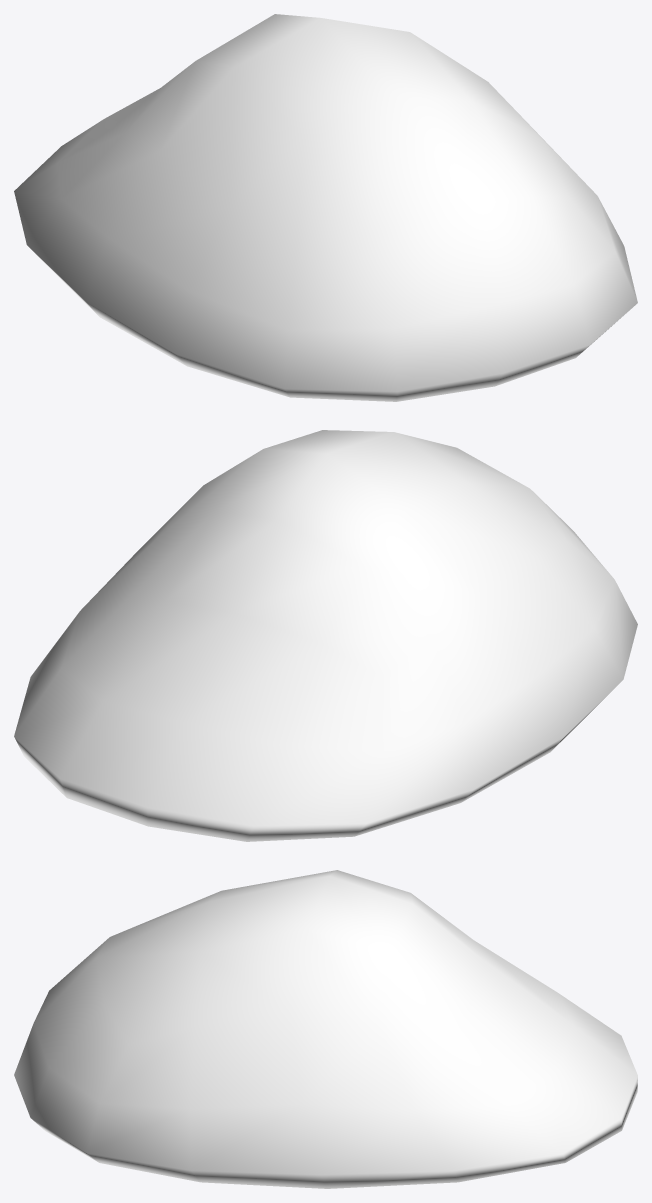
File: MM_SnowPile.fbx
3 renders of one model, top to bottom at view 1: azimuth 30°, elevation 25°; view 2: azimuth 150°, elevation 25°; view 3: azimuth 270°, elevation 25°, orthographic. The views are drawn at different scales.
Visible parts, largest first — view 1: MM_SnowPile; view 2: MM_SnowPile; view 3: MM_SnowPile.
Boxes of the visible parts, x1,y1,x2,y2 form: MM_SnowPile: (14, 14, 637, 401); MM_SnowPile: (14, 430, 637, 841); MM_SnowPile: (14, 870, 637, 1188).
Bounding box in the file's own units: 74.33 × 36.56 × 96.3.
